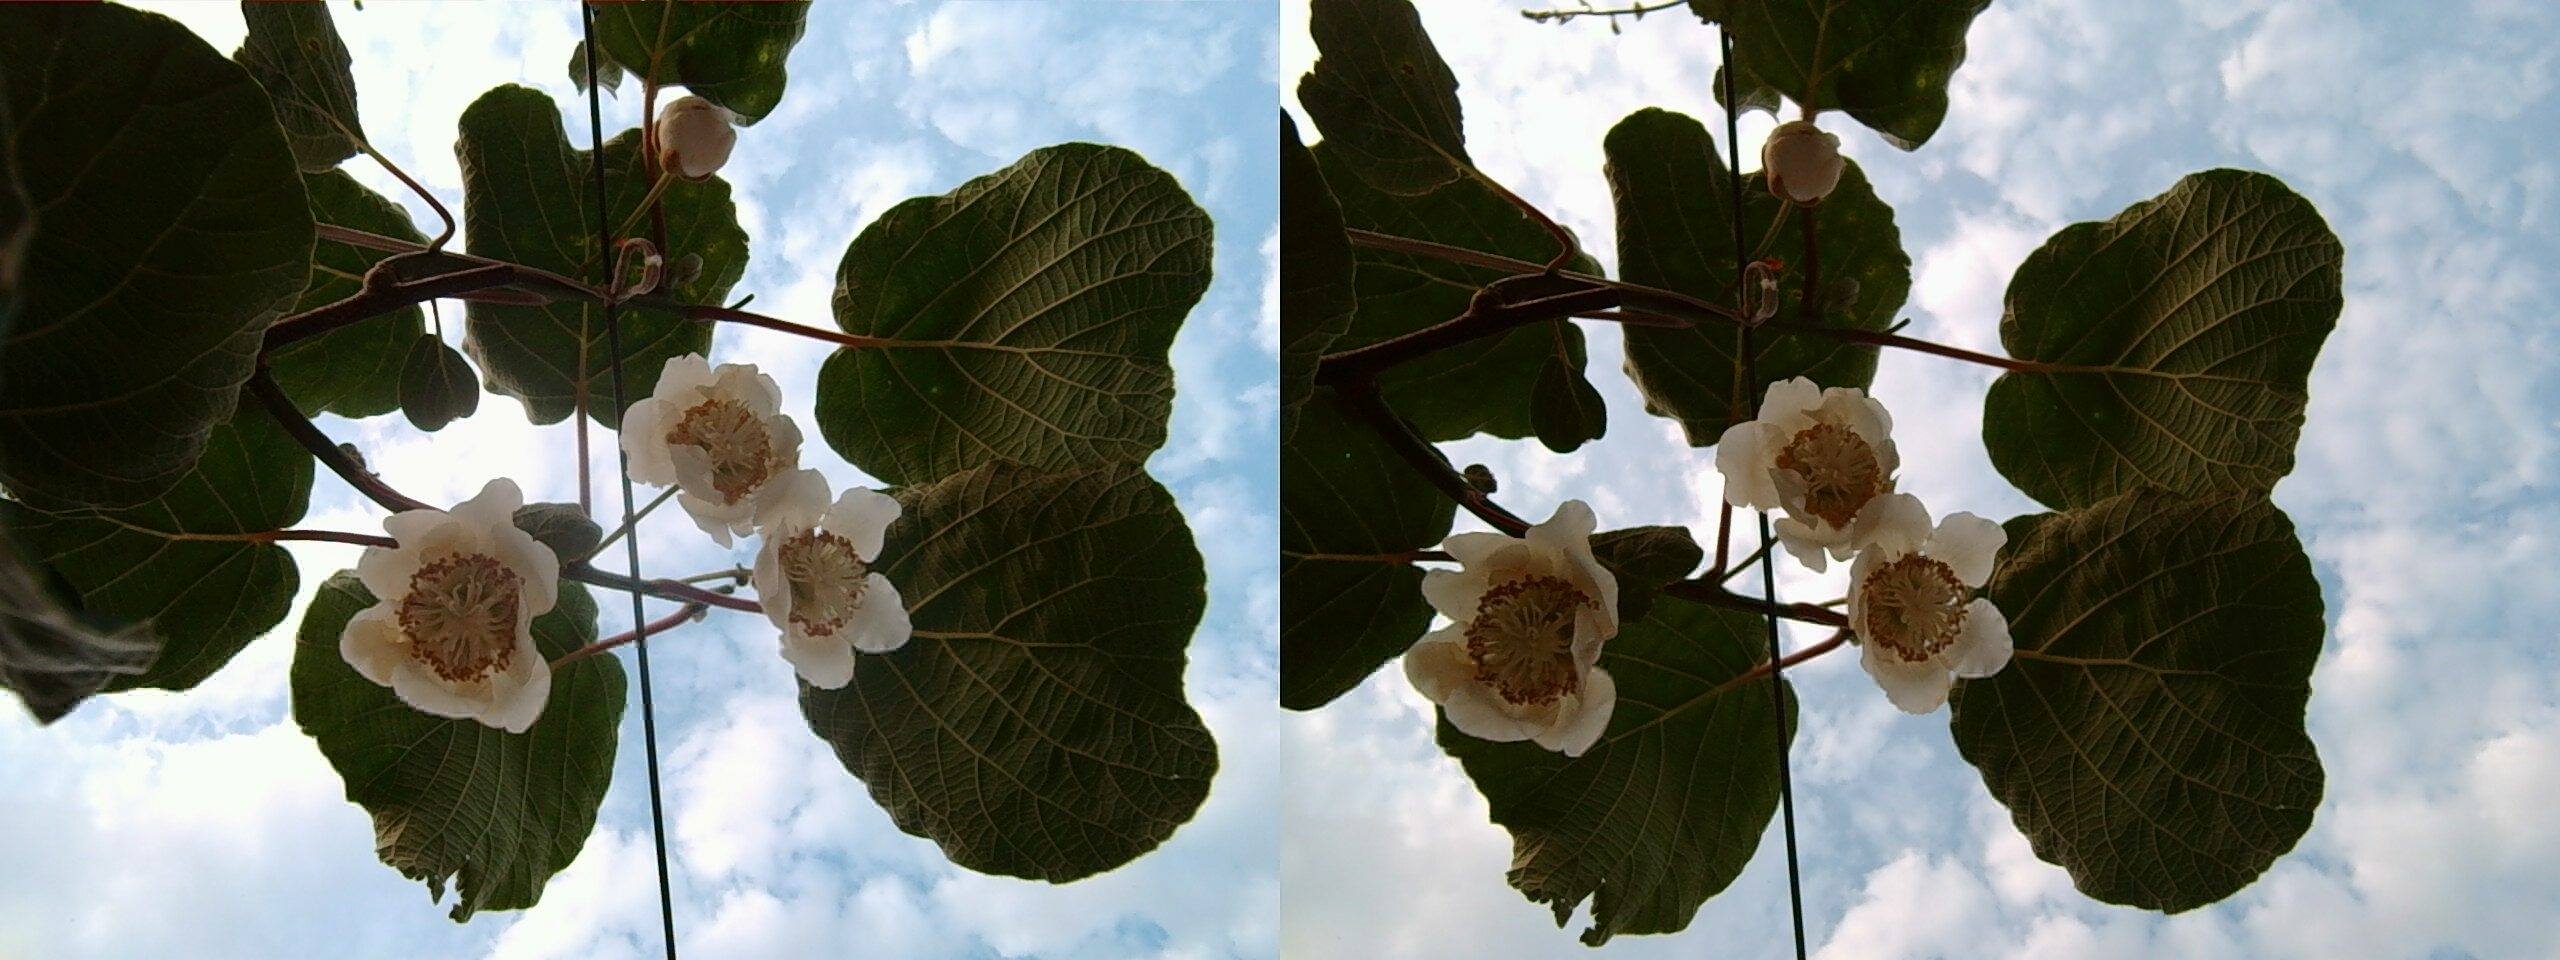flower: (340, 482, 567, 728), (1402, 508, 1620, 744), (1820, 498, 2020, 709), (730, 472, 914, 679), (620, 344, 811, 527), (1714, 371, 1900, 545)
